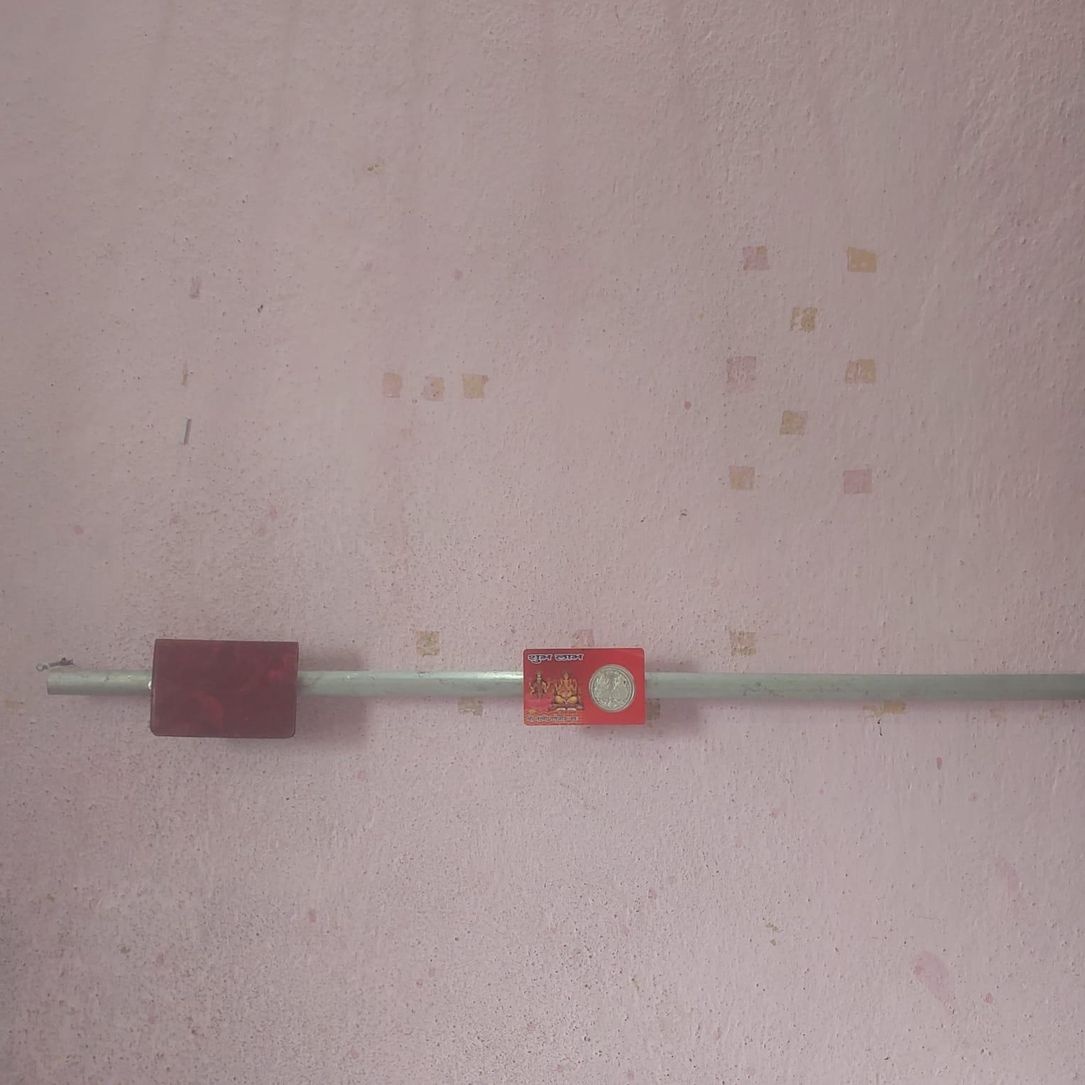blessing_card: (148, 634, 303, 744), (519, 643, 653, 727)
